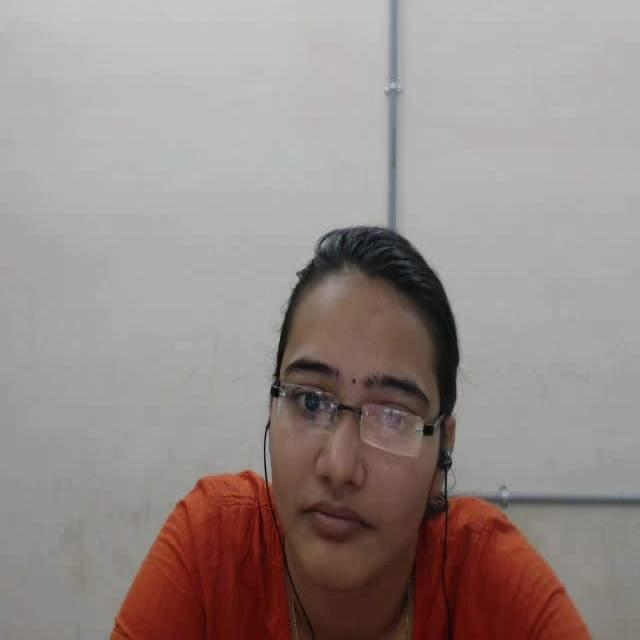Engaged: (225, 203, 510, 640)
